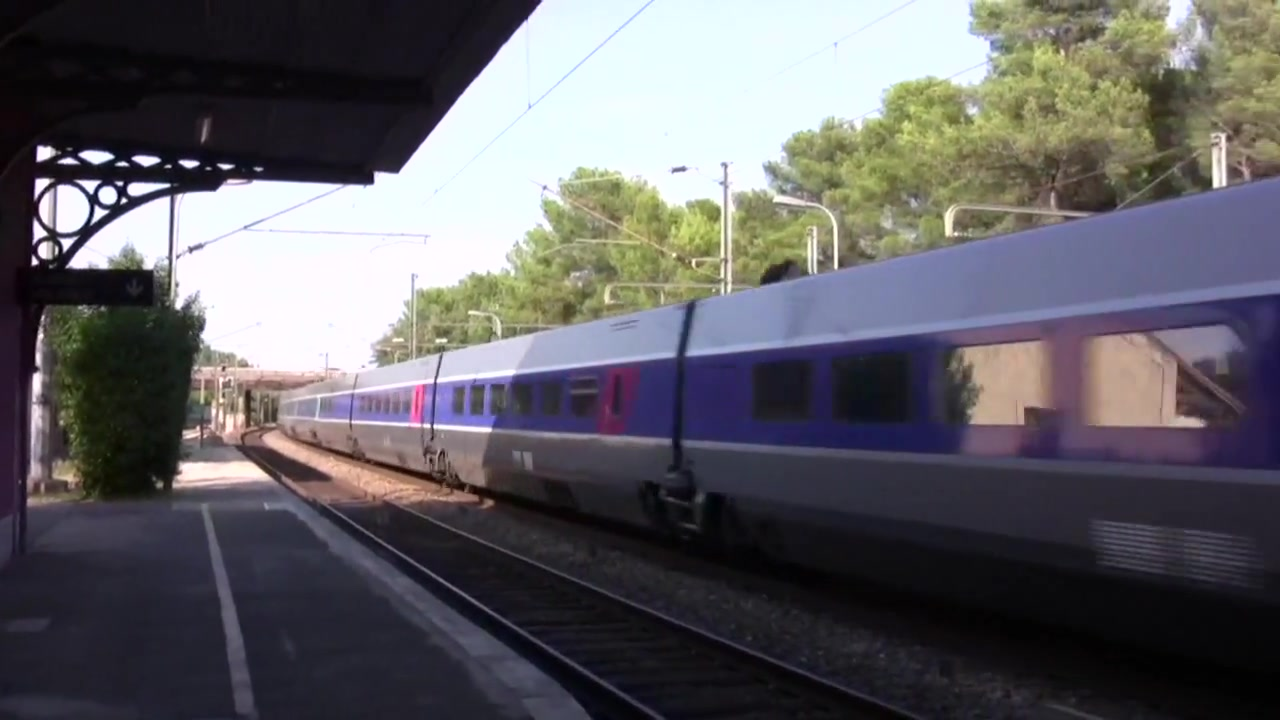train: (277, 174, 1280, 626)
